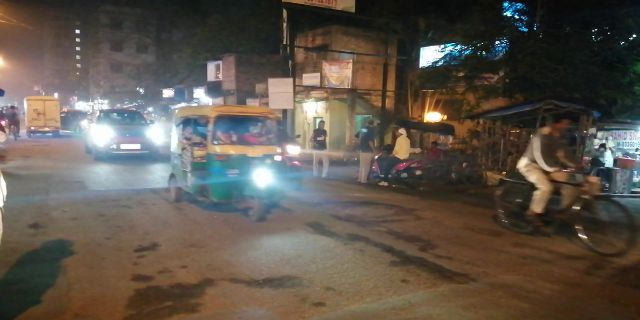Autorickshaw: (177, 103, 291, 218)
Car: (95, 102, 172, 162)
